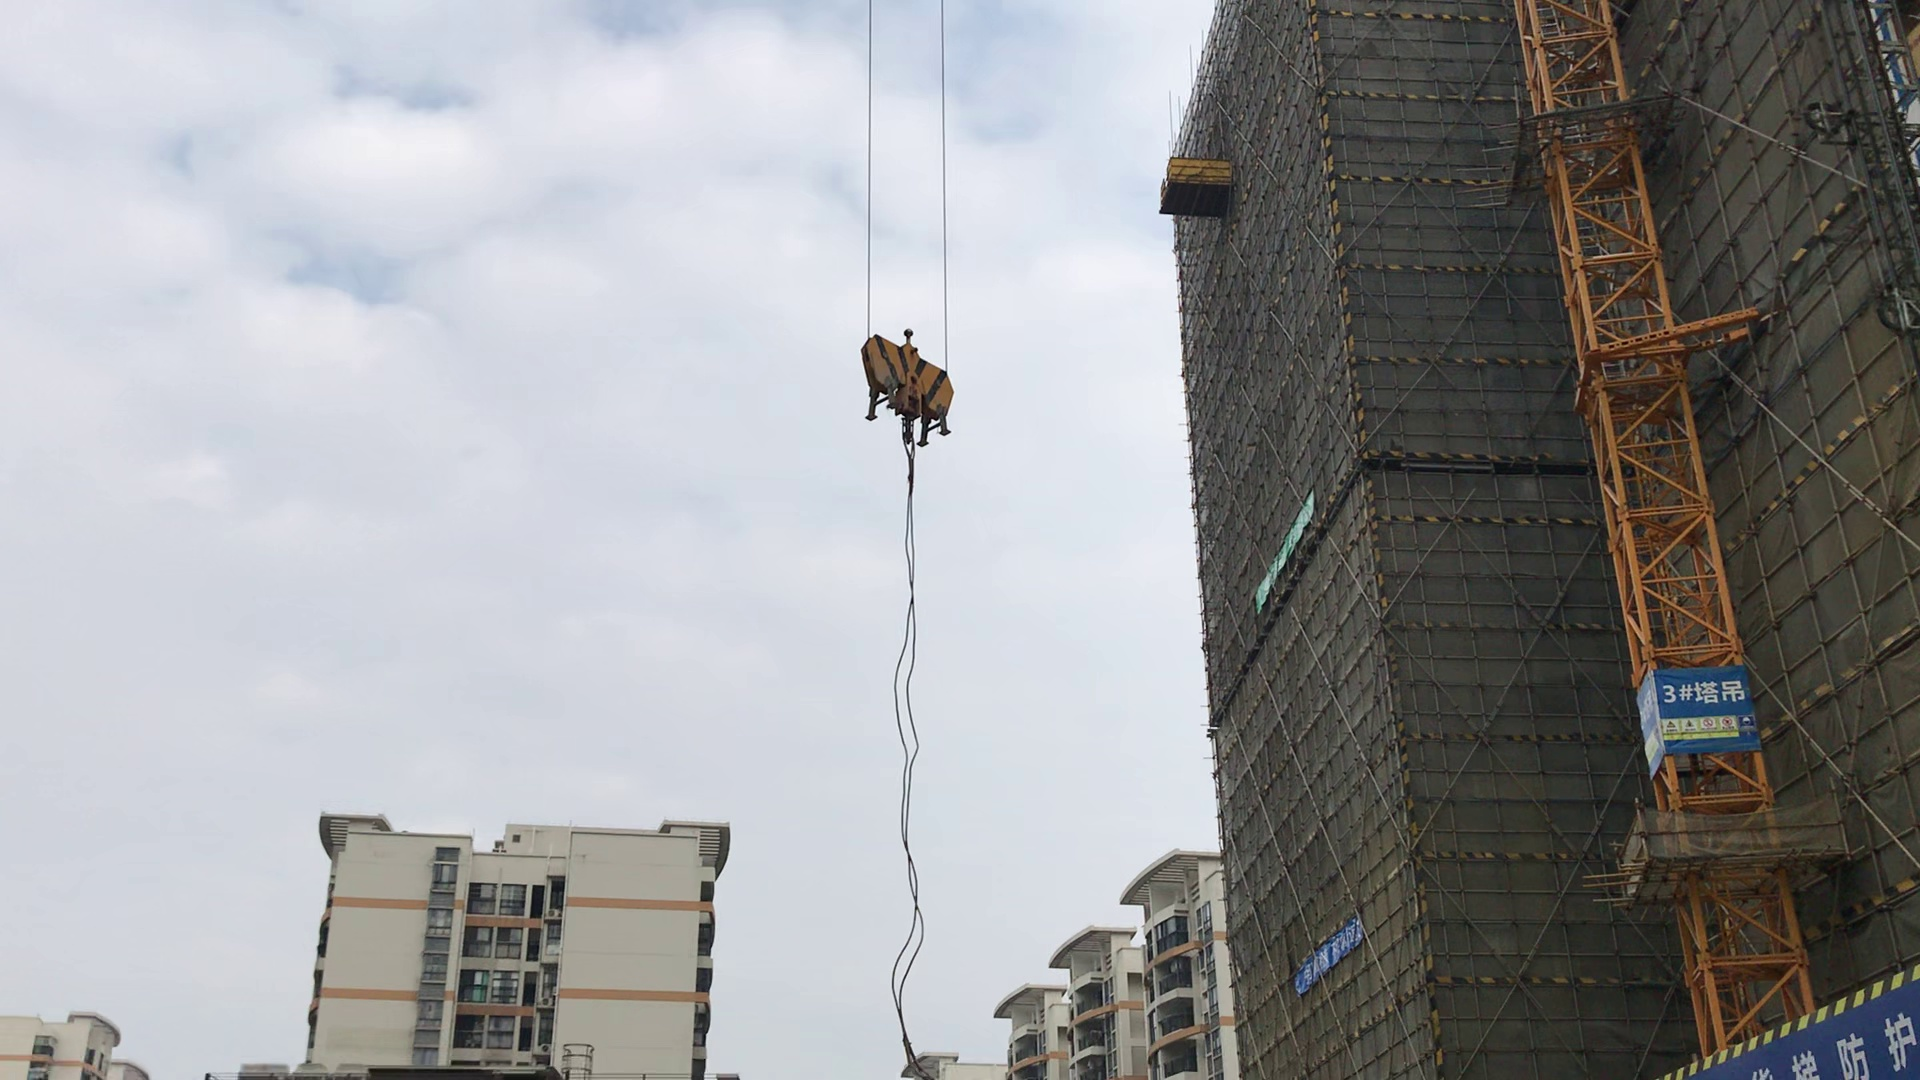hook: (851, 320, 973, 450)
slogan: (1241, 487, 1374, 607), (1735, 1021, 1920, 1080), (1298, 899, 1382, 996)
